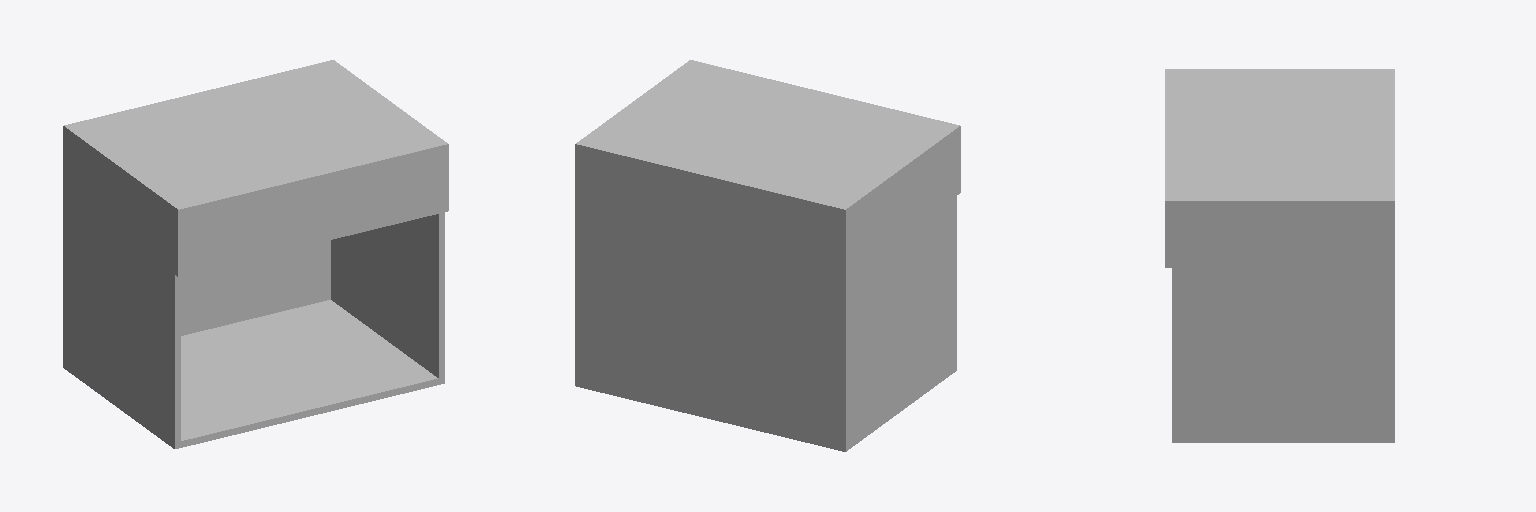
Rendered from store.obj.
3 views of the same model, side by side, from view 1: azimuth 30°, elevation 25°; view 2: azimuth 150°, elevation 25°; view 3: azimuth 270°, elevation 25° (orthographic).
Parts seen in each view (by area): view 1: store; view 2: store; view 3: store.
Boxes of the visible parts, <box> form: store: <box>63,60,448,448</box>; store: <box>575,60,960,451</box>; store: <box>1165,69,1394,442</box>.
Bounding box in the file's own units: 42 × 36 × 31.